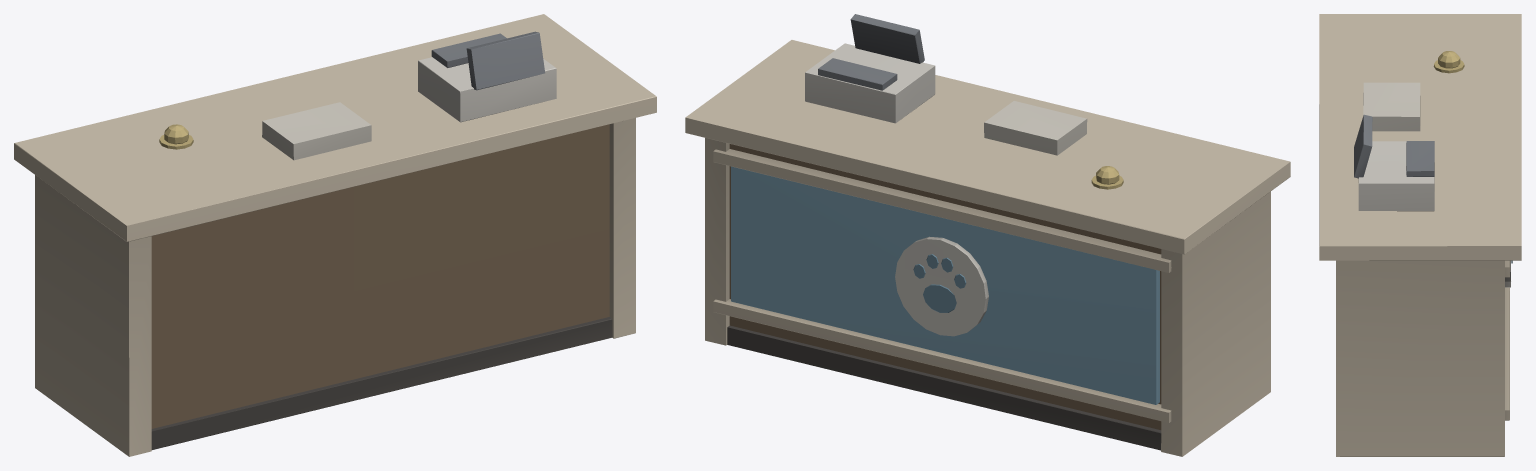
File: mall_counter__f4_low.glb
The picture shows the model from 3 angles, left to right: view 1: azimuth 30°, elevation 25°; view 2: azimuth 150°, elevation 25°; view 3: azimuth 270°, elevation 25°; orthographic projection. The views are drawn at different scales.
Visible parts, largest first — view 1: mall.counter__f4; view 2: mall.counter__f4; view 3: mall.counter__f4.
Boxes of the visible parts, x1,y1,x2,y2 form: mall.counter__f4: (14, 14, 656, 456); mall.counter__f4: (685, 14, 1290, 456); mall.counter__f4: (1319, 14, 1521, 456).
Size of the model in its own units: 2.3 by 1.28 by 0.8484.
